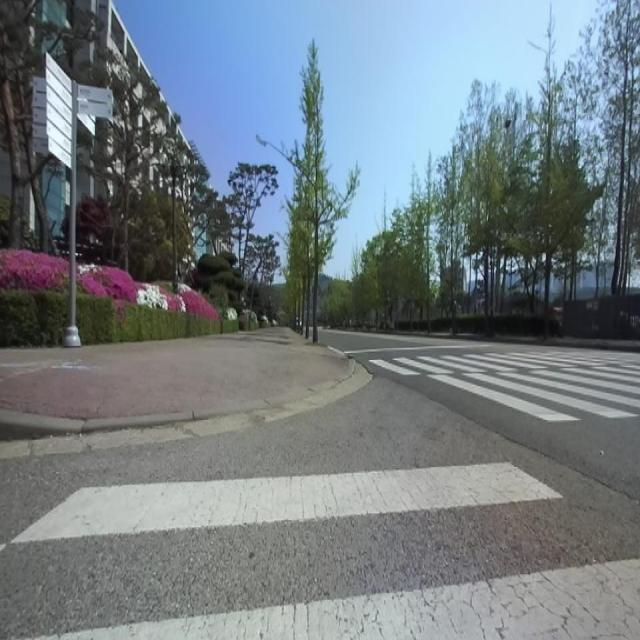sidewalk: (0, 328, 348, 417)
